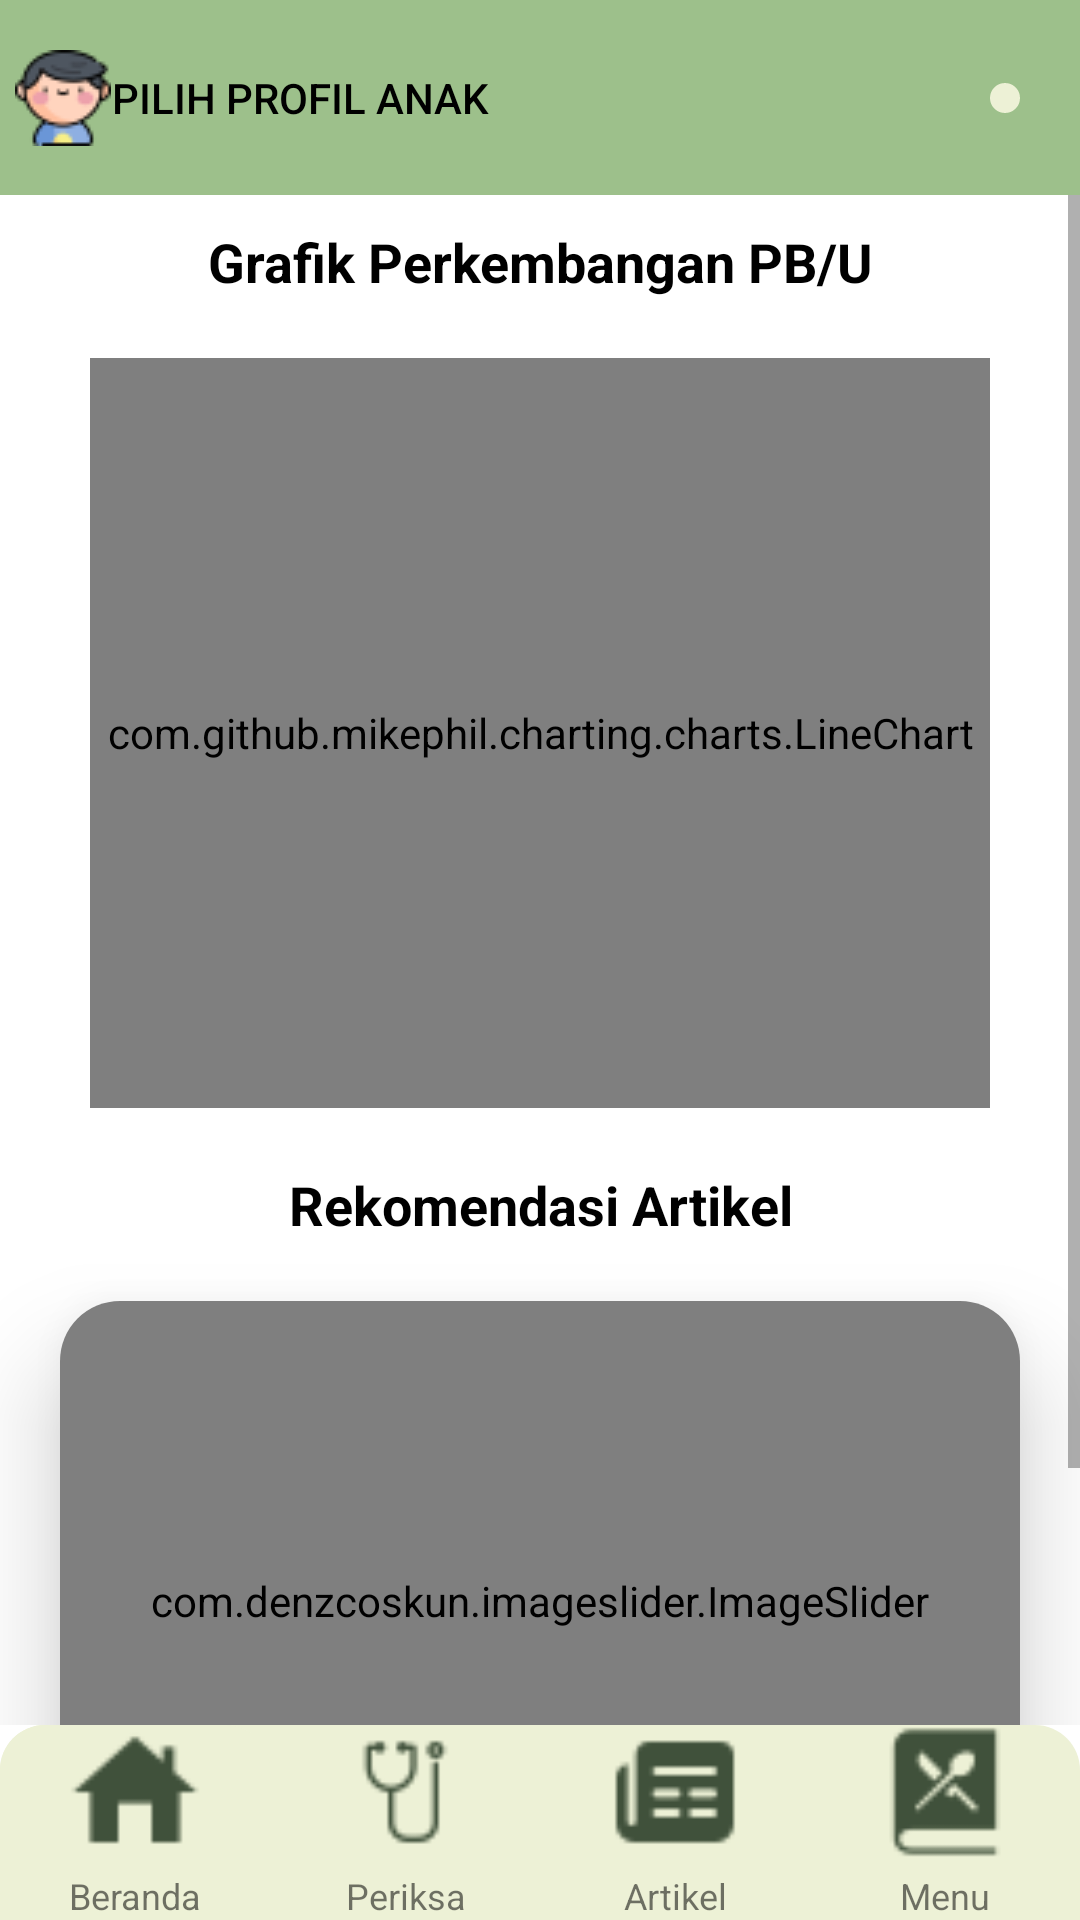

Where to tap for icons on this 1080 x 1920 app screen, as (x,y):
cooking book: (945,1792)
doctor: (404,1792)
newspaper: (675,1792)
